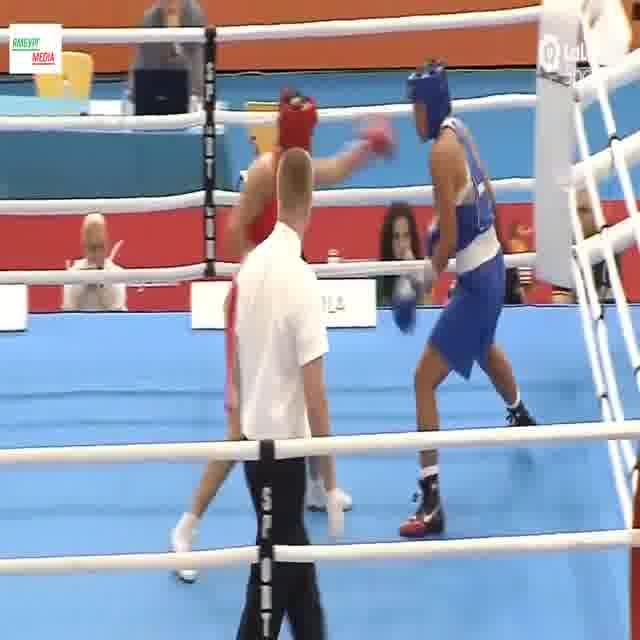blue-player: (386, 55, 544, 539)
red-player: (169, 89, 402, 586)
referee: (230, 145, 350, 640)
